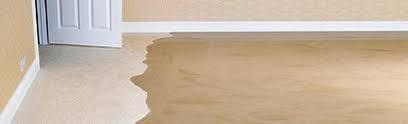water accumulation: (129, 19, 408, 124)
